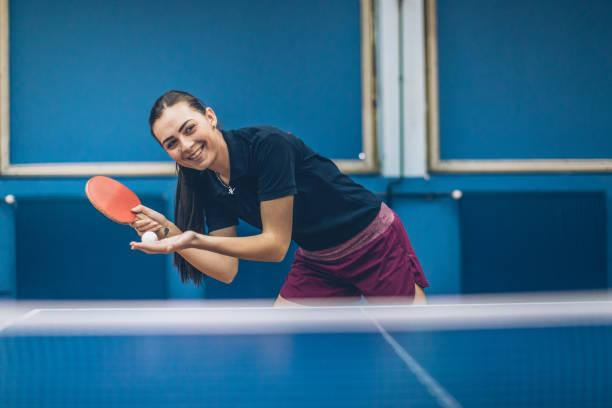ball_pingpong: (140, 229, 158, 245), (452, 188, 464, 199), (4, 193, 16, 203)
